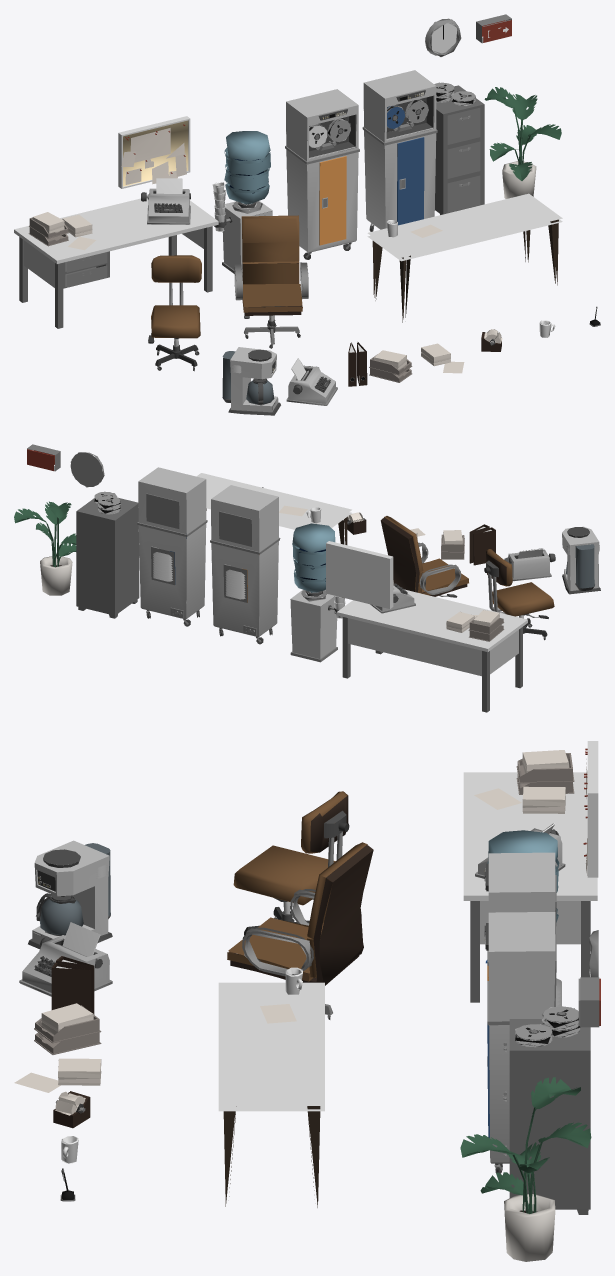
3 views of the same model, one above another, from view 1: azimuth 30°, elevation 25°; view 2: azimuth 150°, elevation 25°; view 3: azimuth 270°, elevation 25° (orthographic). The views are drawn at different scales.
Visible parts, largest first — view 1: Cube.022, Cube.000, Cube.016, Cube.020, Cube.021, Cube.003, Cube.023, Cube.11647, Cube.004, Cube.015, Cylinder.003, Cube.007 (+3 smaller); view 2: Cube.016, Cube.000, Cube.022, Cube.003, Cube.023, Cube.11647, Cube.021, Cube.004, Cylinder.003, Cube.020, Cube.015, Cube (+6 smaller); view 3: Cube.020, Cube.016, Cube.003, Cube.000, Cube.021, Cylinder.003, Cube.015, Cube.004, Cube.022, Cube, Cube.11647, Cube.001 (+12 smaller).
Part boxes in pixels (left/top/right/bottom): Cube.022: left=285, top=89, right=359, bottom=259; Cube.000: left=362, top=70, right=437, bottom=231; Cube.016: left=14, top=198, right=218, bottom=328; Cube.020: left=367, top=193, right=562, bottom=322; Cube.021: left=234, top=215, right=308, bottom=348; Cube.003: left=435, top=85, right=484, bottom=214; Cube.023: left=212, top=131, right=272, bottom=277; Cube.11647: left=118, top=116, right=190, bottom=188; Cube.004: left=148, top=255, right=201, bottom=371; Cube.015: left=222, top=347, right=280, bottom=415; Cylinder.003: left=484, top=87, right=561, bottom=198; Cube.007: left=141, top=178, right=190, bottom=224; Cube.016: left=336, top=589, right=527, bottom=712; Cube.000: left=137, top=467, right=207, bottom=626; Cube.022: left=210, top=485, right=280, bottom=644; Cube.003: left=76, top=494, right=139, bottom=618; Cube.023: left=290, top=523, right=345, bottom=662; Cube.11647: left=326, top=541, right=394, bottom=608; Cube.021: left=380, top=516, right=468, bottom=597; Cube.004: left=484, top=549, right=554, bottom=640; Cylinder.003: left=14, top=501, right=76, bottom=595; Cube.020: left=196, top=473, right=351, bottom=544; Cube.015: left=562, top=526, right=600, bottom=594; Cube: left=504, top=548, right=555, bottom=581; Cube.020: left=218, top=982, right=324, bottom=1207; Cube.016: left=463, top=772, right=597, bottom=1002; Cube.003: left=503, top=1019, right=590, bottom=1214; Cube.000: left=484, top=912, right=556, bottom=1173; Cube.021: left=227, top=842, right=373, bottom=1019; Cylinder.003: left=460, top=1077, right=591, bottom=1261; Cube.015: left=28, top=840, right=112, bottom=949; Cube.004: left=233, top=791, right=349, bottom=938; Cube.022: left=484, top=852, right=561, bottom=1006; Cube: left=19, top=922, right=112, bottom=996; Cube.11647: left=583, top=741, right=598, bottom=877; Cube.001: left=51, top=962, right=91, bottom=1012.
Bounding box in the file's own units: 806 × 273 × 510.
